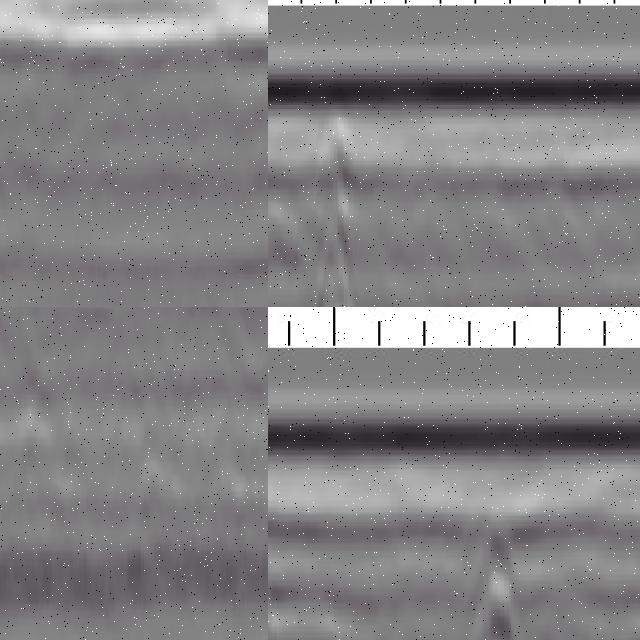crack: (305, 110, 366, 308), (473, 525, 523, 640)
